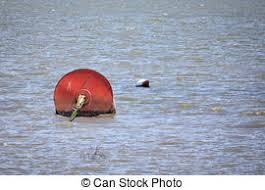buoy: (54, 69, 113, 115)
